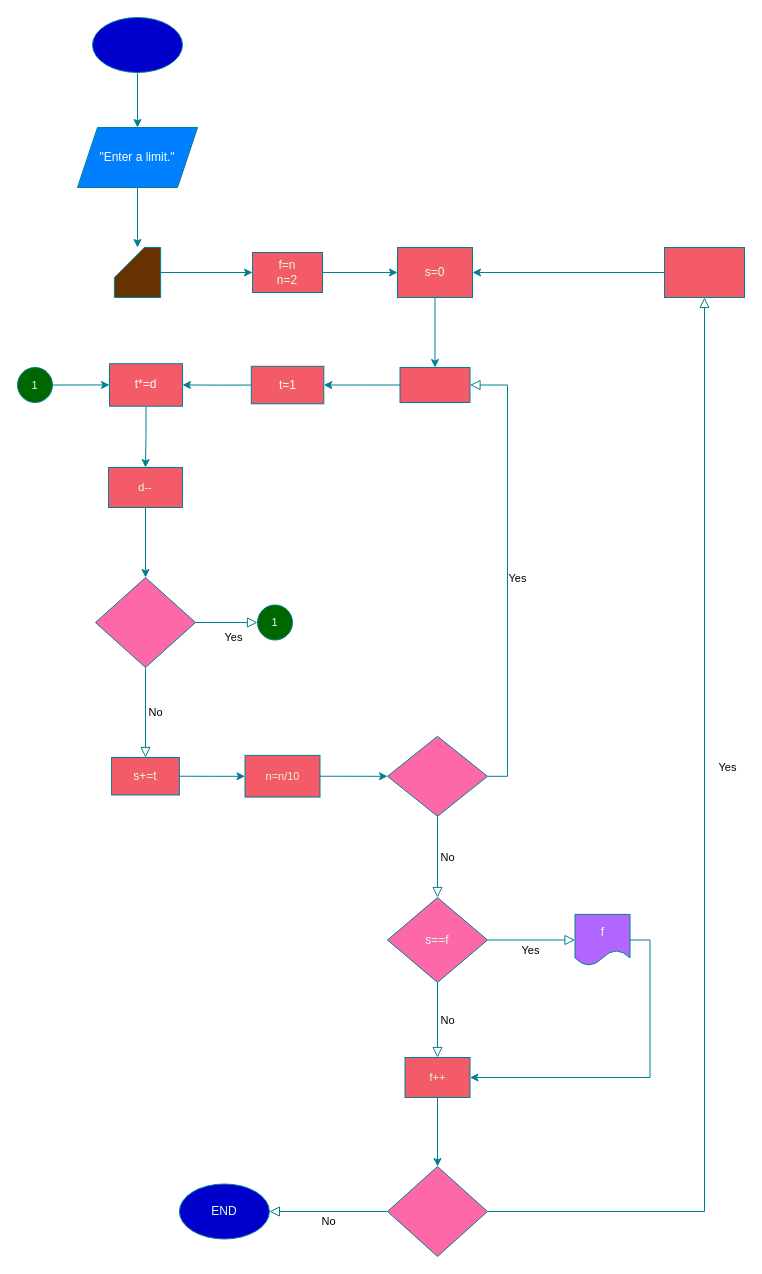
Image size: 762x1274. Some labels were removed from this diagram. The centre of each missing label's shape, as x and y in pixels:
"d=n%10" goes at point 434,384.
"d>=1" goes at point 145,622.
"f<lim" goes at point 437,1211.
"lim" goes at point 137,272.
"n!=0" goes at point 437,775.
"n=f" goes at point 704,272.
"START" goes at point 137,44.
